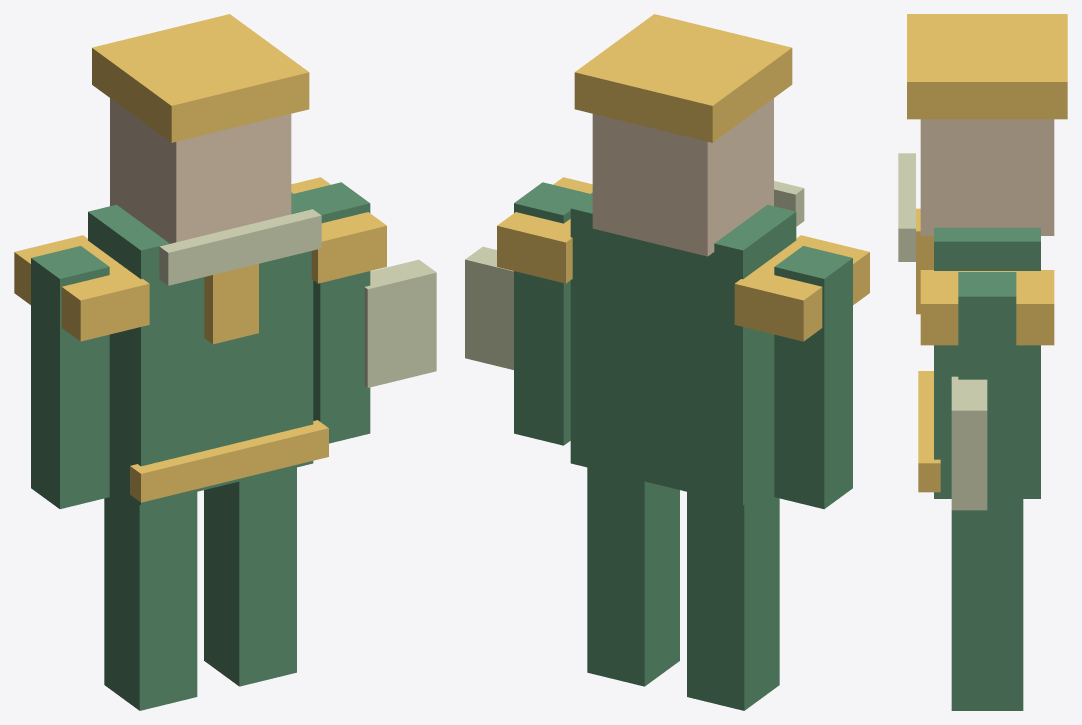
File: 02_selka_skyharrow_archivist_near_dub.glb
3 renders of one model, left to right at view 1: azimuth 30°, elevation 25°; view 2: azimuth 150°, elevation 25°; view 3: azimuth 270°, elevation 25°, orthographic.
Parts seen in each view (by area): view 1: Selka Skyharrow, Archivist near Dub; view 2: Selka Skyharrow, Archivist near Dub; view 3: Selka Skyharrow, Archivist near Dub.
Part boxes in pixels (x1,y1,x2,y2): Selka Skyharrow, Archivist near Dub: (14, 14, 436, 710); Selka Skyharrow, Archivist near Dub: (465, 14, 869, 710); Selka Skyharrow, Archivist near Dub: (898, 14, 1067, 710).
Size of the model in its own units: 0.9448 by 1.5 by 0.3682.
